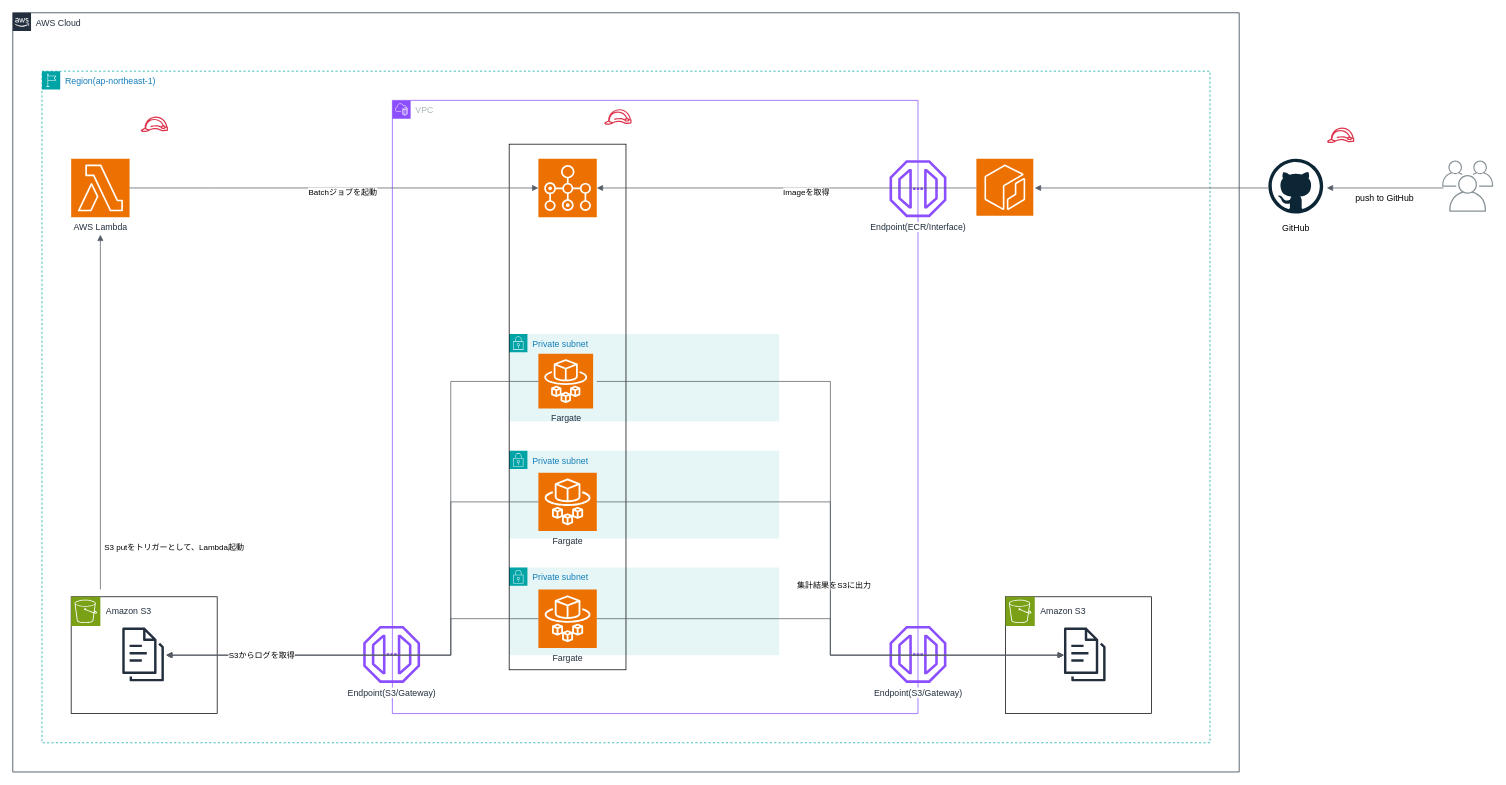
Image size: 1506x785. Some labels were removed from this diagram. Here are the shapes that lost their labels. From the top down, the centre of each, then its label:
At (154,124): "Role(Lambda)".
At (617,116): "Role(Batch)".
At (1340,135): "Role(GitHub)".
At (567,187): "AWS Batch".
At (1004,187): "Amazon ECR".
At (1467,185): "Engineer".
